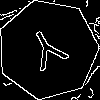Y: (23, 24, 74, 81)
